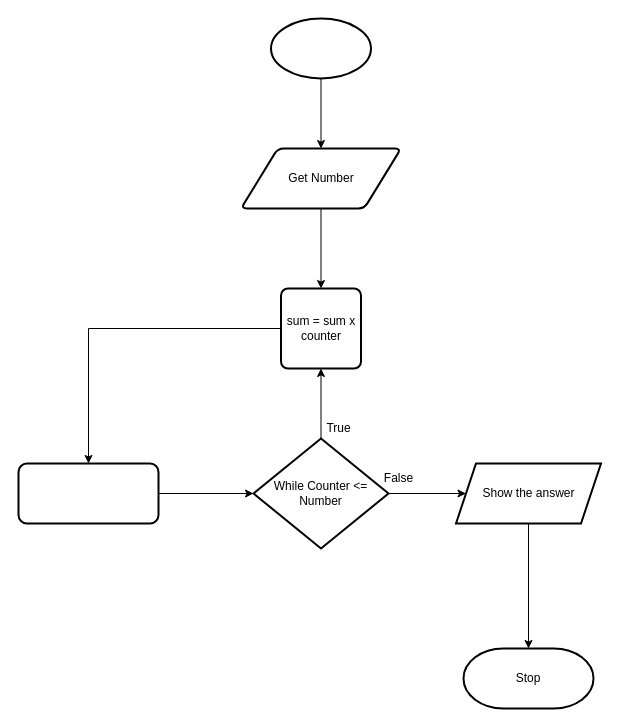
This 619x726 diagram has some shape labels left out. The shapes that lost their labels are listed below. From the top down, each one's box as (x1, y1, x2, y2) in pixels, then its label:
(270, 17, 372, 79): Start
(17, 462, 159, 524): Counter = Counter + 1
